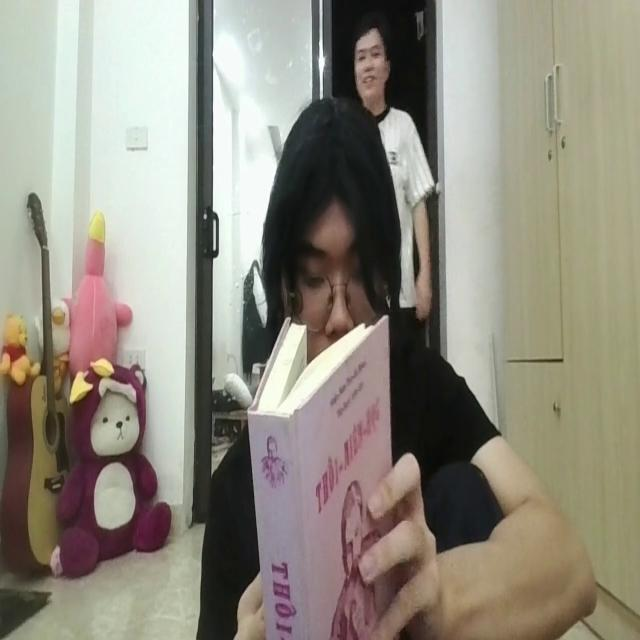book: (248, 311, 402, 640)
extra_person: (358, 23, 435, 314)
student: (270, 99, 394, 353)
